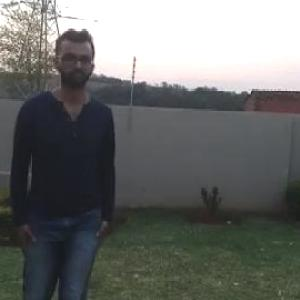follow: (19, 39, 111, 299)
